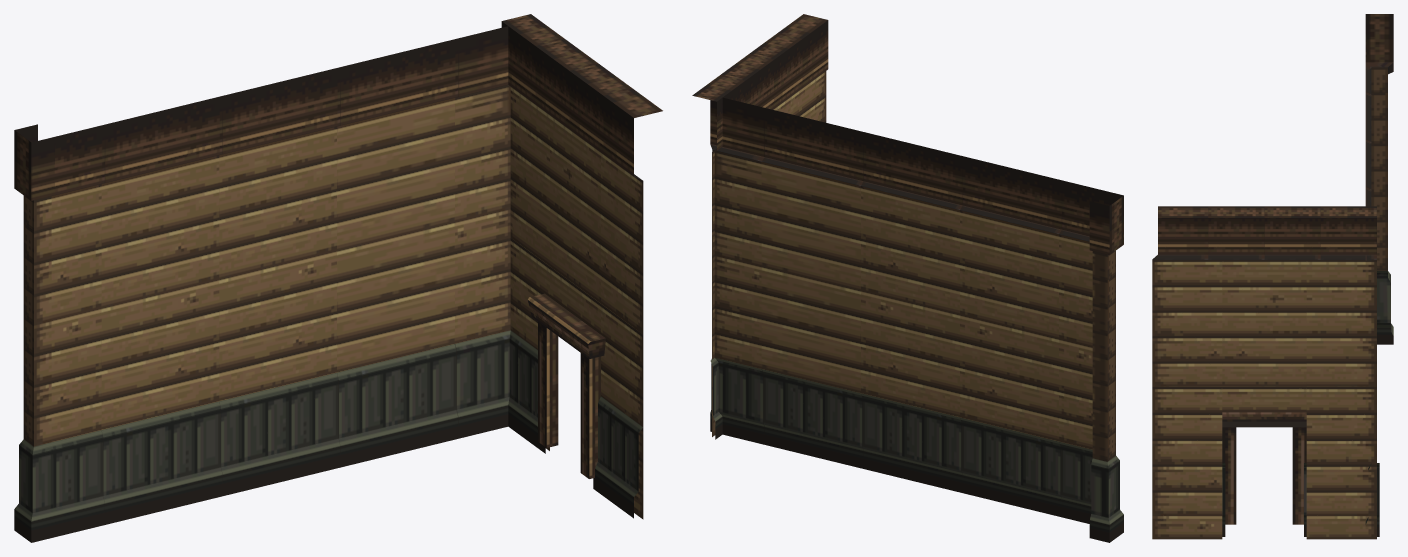
The model's file is EnvBdgMD_Wilderness_A_Indoor_A_Wall_A.FBX.
3 renders of one model, left to right at view 1: azimuth 30°, elevation 25°; view 2: azimuth 150°, elevation 25°; view 3: azimuth 270°, elevation 25°, orthographic. The views are drawn at different scales.
Parts seen in each view (by area): view 1: EnvBdgMD_Wilderness_A_Indoor_A_Wall_A; view 2: EnvBdgMD_Wilderness_A_Indoor_A_Wall_A; view 3: EnvBdgMD_Wilderness_A_Indoor_A_Wall_A.
Part boxes in pixels (x1,y1,x2,y2): EnvBdgMD_Wilderness_A_Indoor_A_Wall_A: (14,14,662,542); EnvBdgMD_Wilderness_A_Indoor_A_Wall_A: (692,14,1123,542); EnvBdgMD_Wilderness_A_Indoor_A_Wall_A: (1152,14,1393,539).
Size of the model in its own units: 860 by 650 by 430.
1 material, 1 textured.
